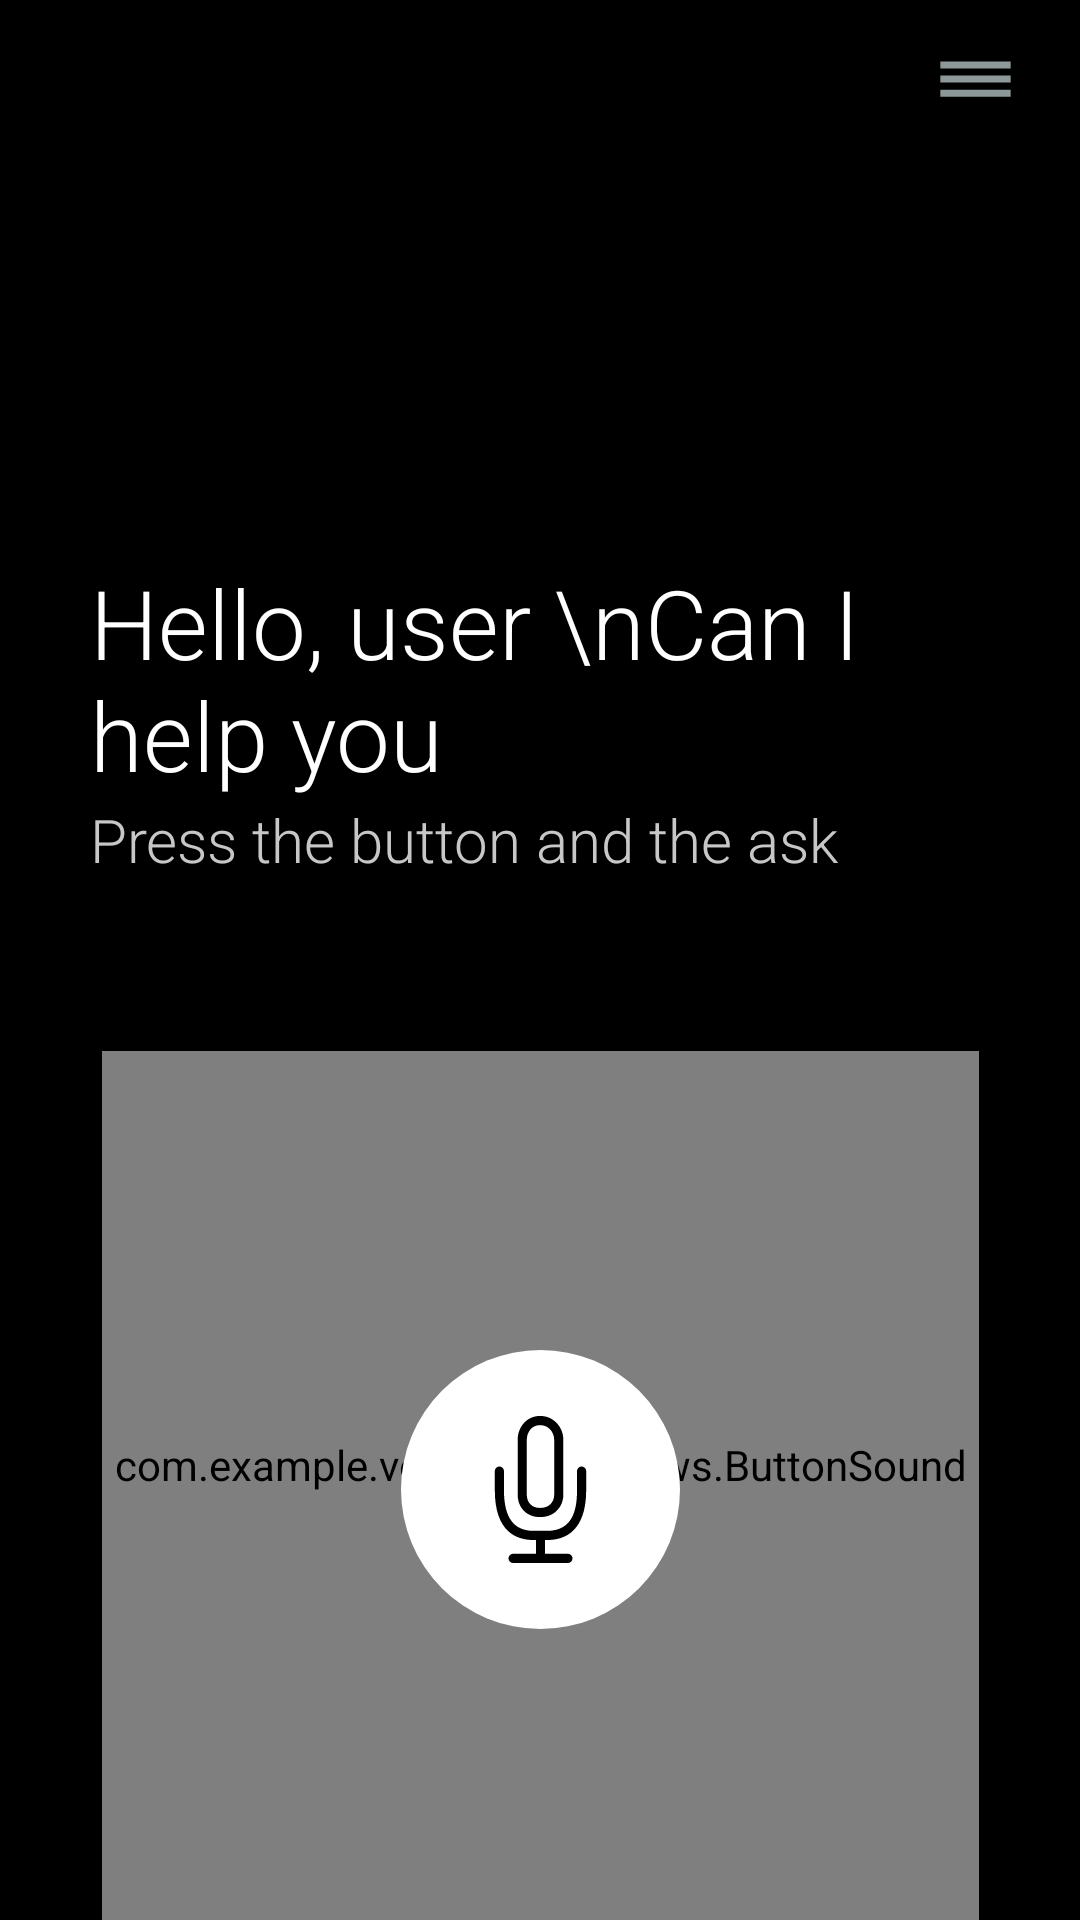

Icon bounding boxes for this 1080 x 1920 phone screenshot, format rect(x1, y1, x2, y2):
mic: rect(401, 1350, 680, 1629)
